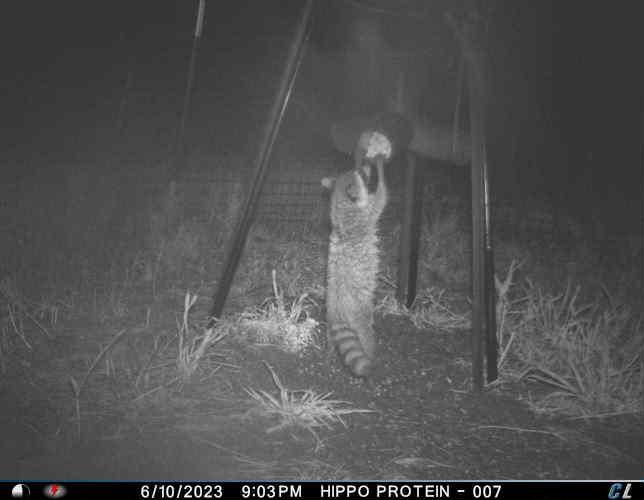Raccoon: (320, 153, 390, 382)
